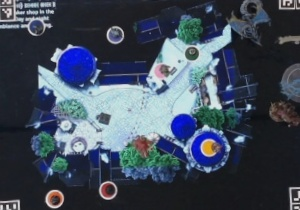blue: (26, 16, 48, 37)
green: (181, 43, 199, 62)
orange: (44, 186, 65, 209)
pink: (153, 63, 170, 79)
red: (95, 178, 119, 201)
violet: (102, 22, 125, 44)
yellow: (199, 137, 221, 157)
